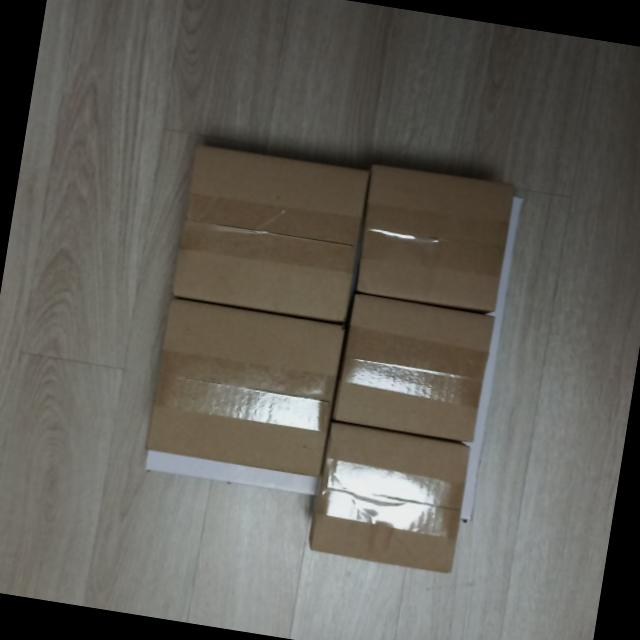box: (138, 291, 350, 483), (167, 138, 376, 326), (305, 417, 477, 579), (352, 159, 515, 315), (333, 292, 499, 444)
